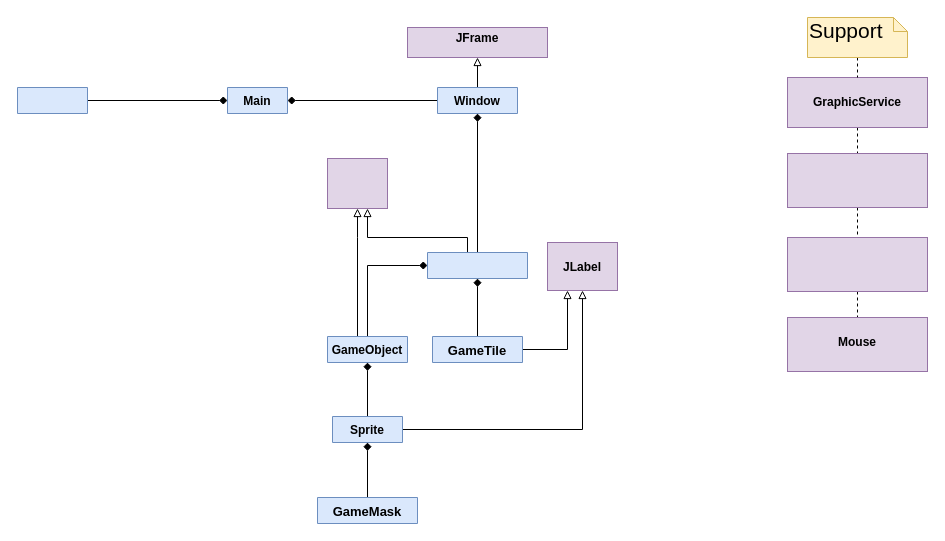
Image size: 945x541. Some labels were removed from this diagram. The shapes that lost their labels are listed below. From the top down, each one's centre as x and y in pixels, then its label:
At pixel 52 100: "Sound".
At pixel 357 183: "JPanel".
At pixel 857 180: "GameSystem".
At pixel 477 265: "GameRoom".
At pixel 857 264: "Keyboard".
